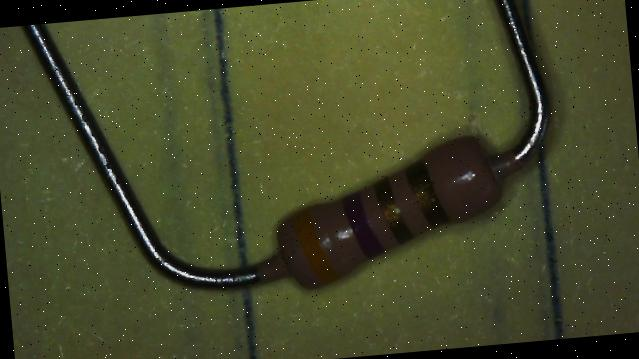gold: (405, 159, 449, 229), (374, 176, 413, 245)
resistor: (235, 100, 527, 337)
violet: (342, 190, 384, 260)
yellow: (292, 207, 339, 286)
